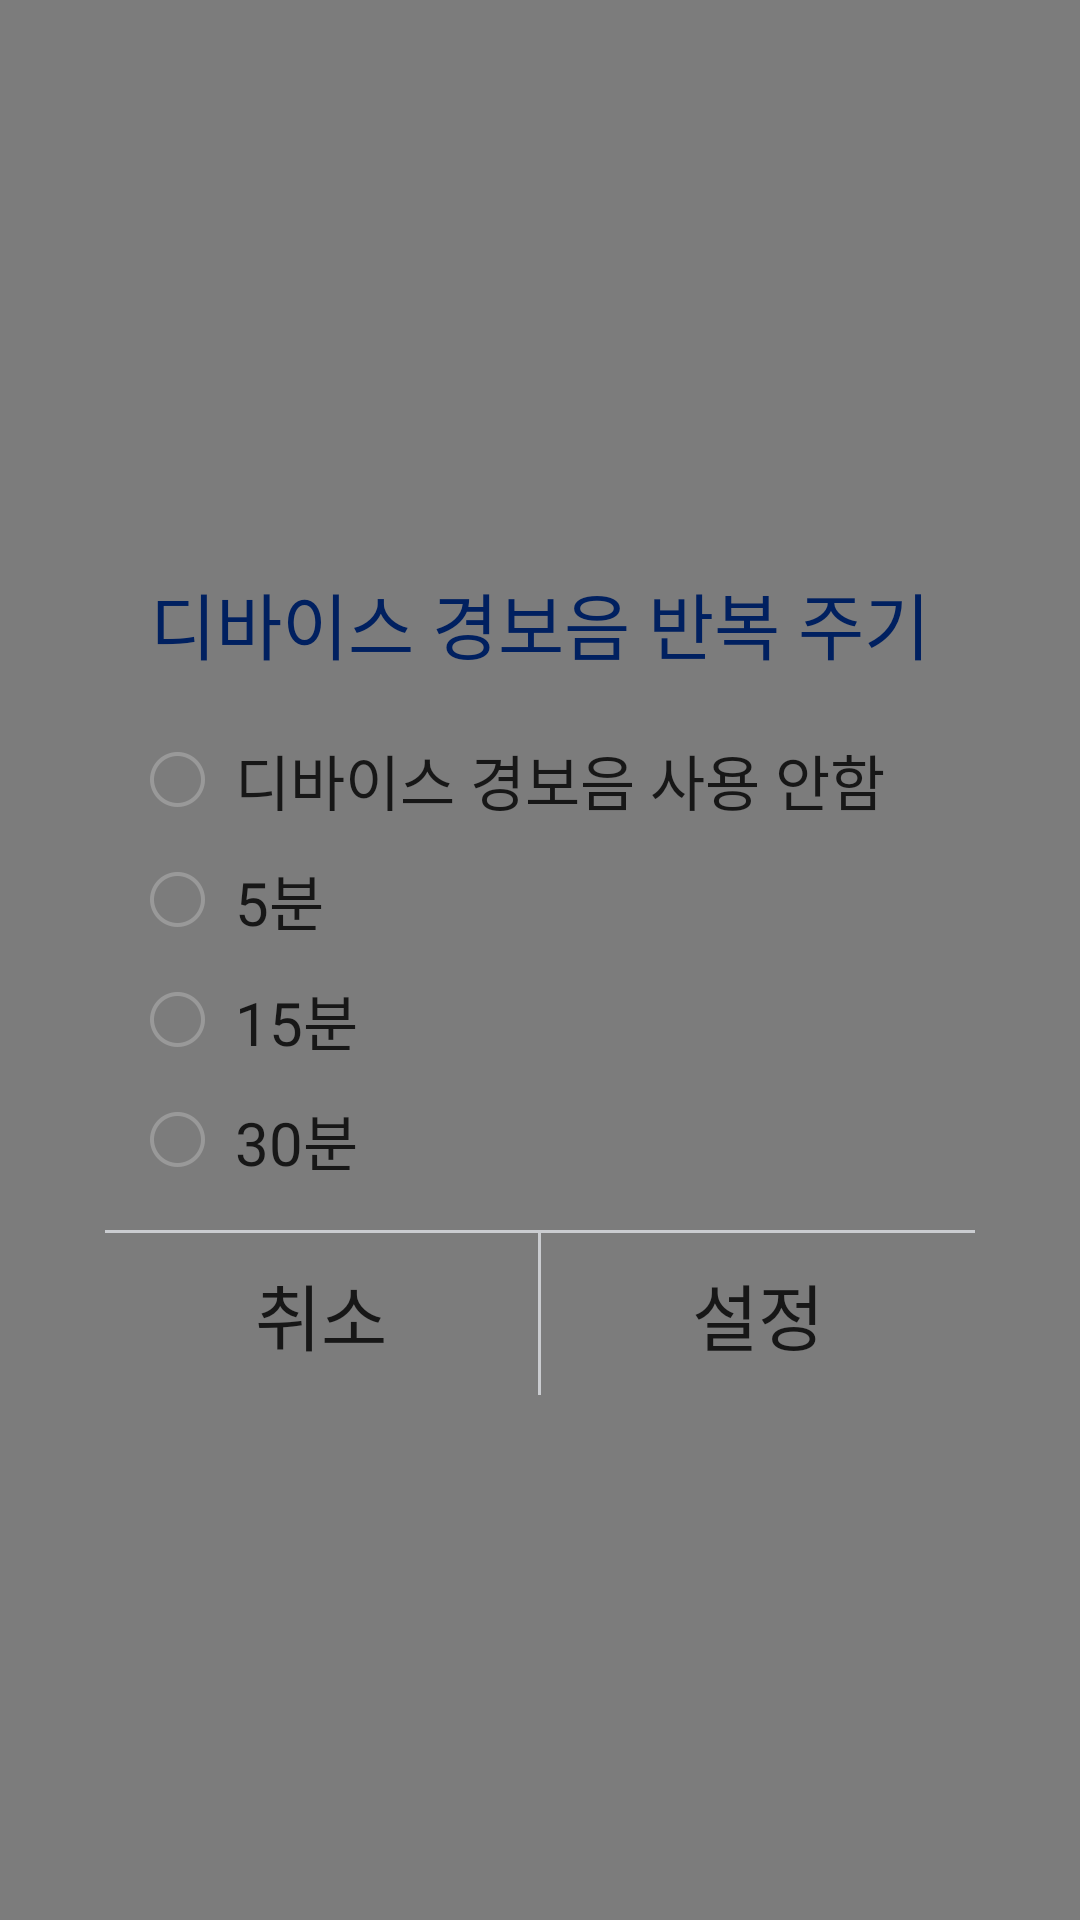

Named icons in this screenshot (1080w x 1920h) and their bounding boxes, box=[x1, y1, x2, y2]:
option off: box=[150, 752, 205, 807], box=[150, 872, 205, 927], box=[150, 992, 205, 1047], box=[150, 1112, 205, 1167]
